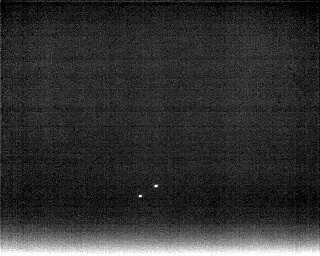BIRD: (136, 191, 144, 200)
